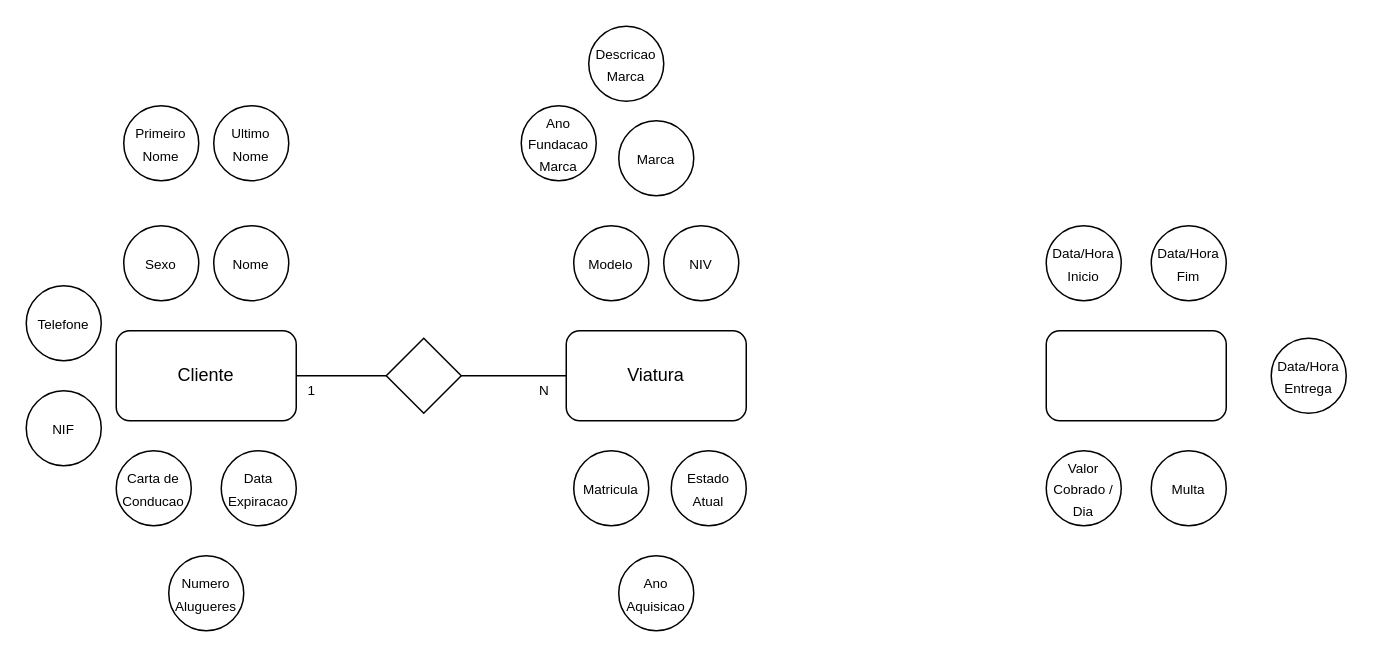
This 1373x657 diagram has some shape labels left out. The shapes that lost their labels are listed below. From the top down, each one's centre as x and y in pixels, then its label:
(x=423, y=375): Alugar
(x=1135, y=375): Aluguer
